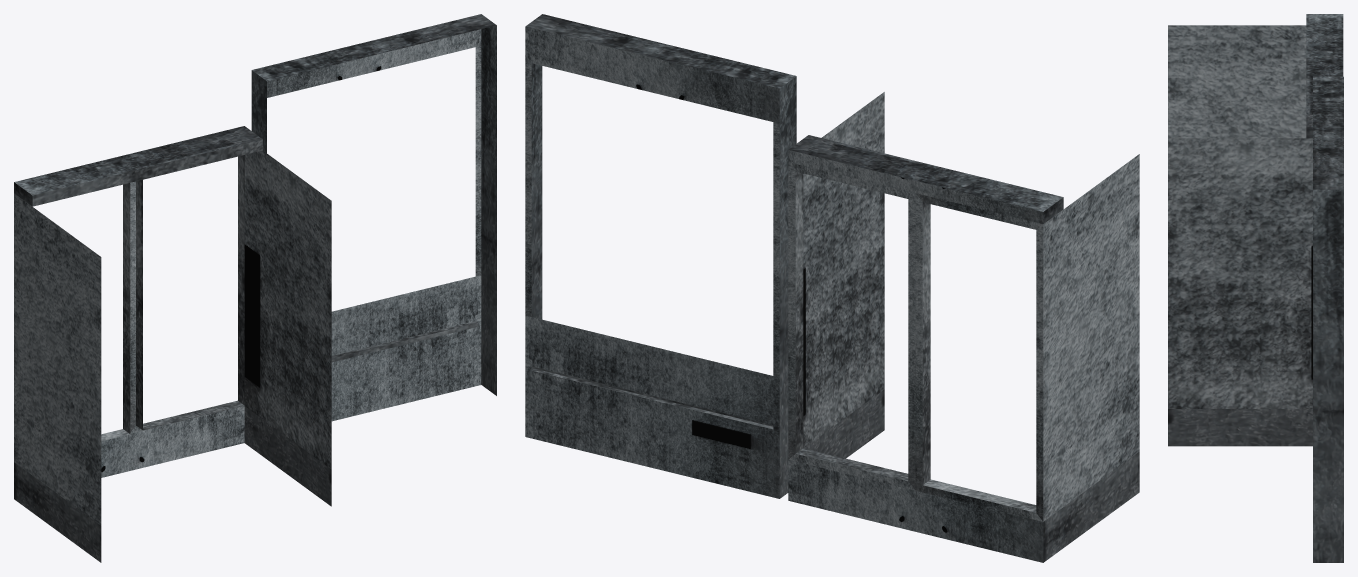
The model's file is store_51.obj.
The picture shows the model from 3 angles, left to right: view 1: azimuth 30°, elevation 25°; view 2: azimuth 150°, elevation 25°; view 3: azimuth 270°, elevation 25°; orthographic projection. The views are drawn at different scales.
Size of the model in its own units: 194 by 147 by 62.75.
